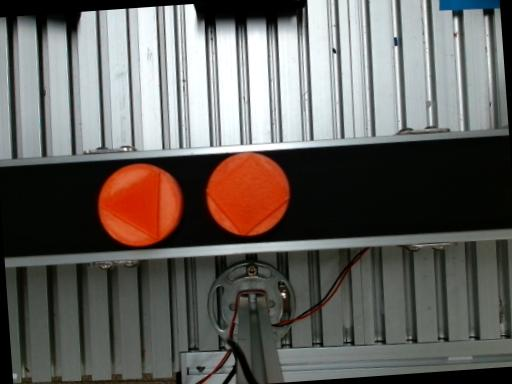Not_Square: (95, 168, 158, 240)
Orange_Waper: (206, 152, 290, 236), (97, 164, 183, 246)
Square: (204, 153, 291, 235)
